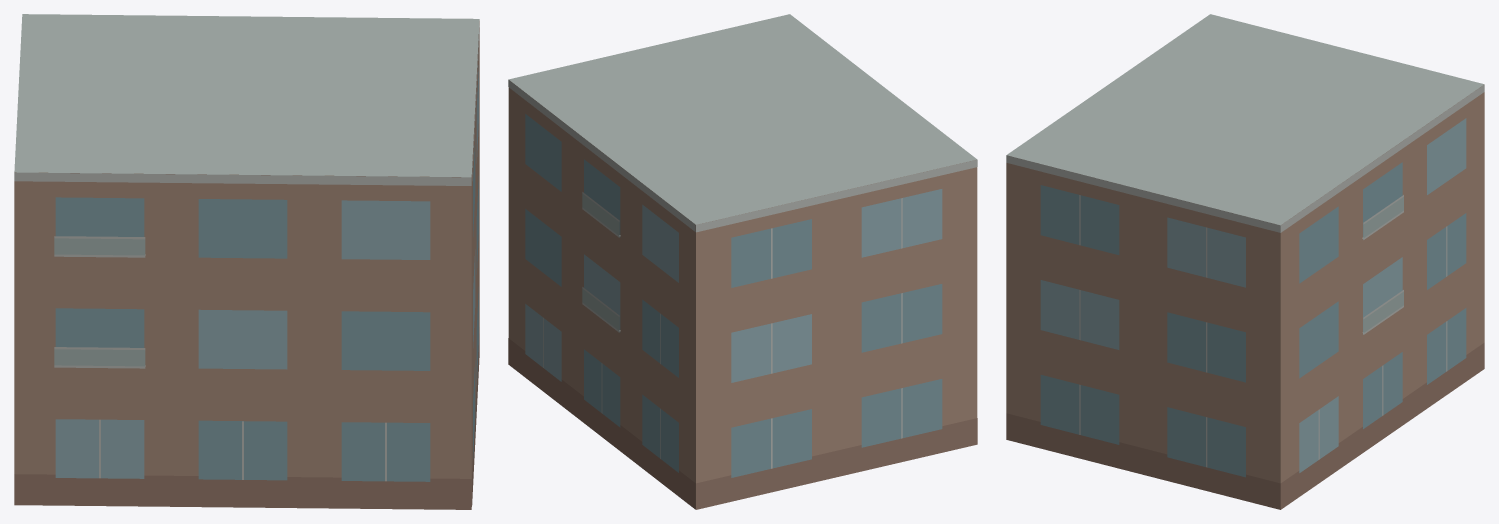
Rendered from survey-upis-32721753.glb.
3 views of the same model, side by side, from view 1: azimuth 30°, elevation 25°; view 2: azimuth 150°, elevation 25°; view 3: azimuth 270°, elevation 25° (orthographic). The views are drawn at different scales.
Parts seen in each view (by area): view 1: survey-upis-32721753.tmp; view 2: survey-upis-32721753.tmp; view 3: survey-upis-32721753.tmp.
Boxes of the visible parts, box(x1,y1,x2,y2) form: survey-upis-32721753.tmp: box(14, 14, 479, 509); survey-upis-32721753.tmp: box(508, 14, 977, 509); survey-upis-32721753.tmp: box(1006, 14, 1484, 509).
Size of the model in its own units: 14.58 by 9.15 by 13.95.
